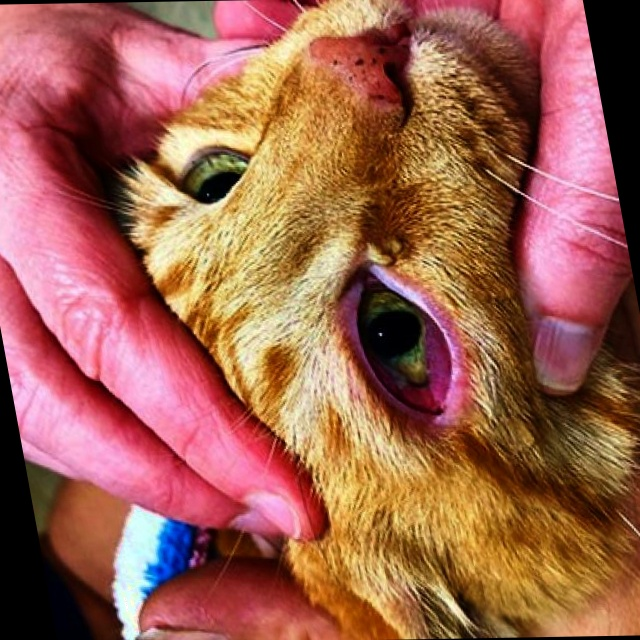eye_infection: (330, 271, 462, 427)
